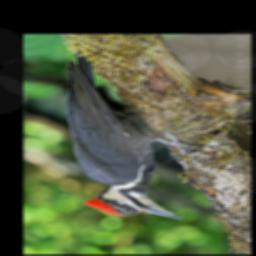Woodpecker: (53, 50, 199, 221)
